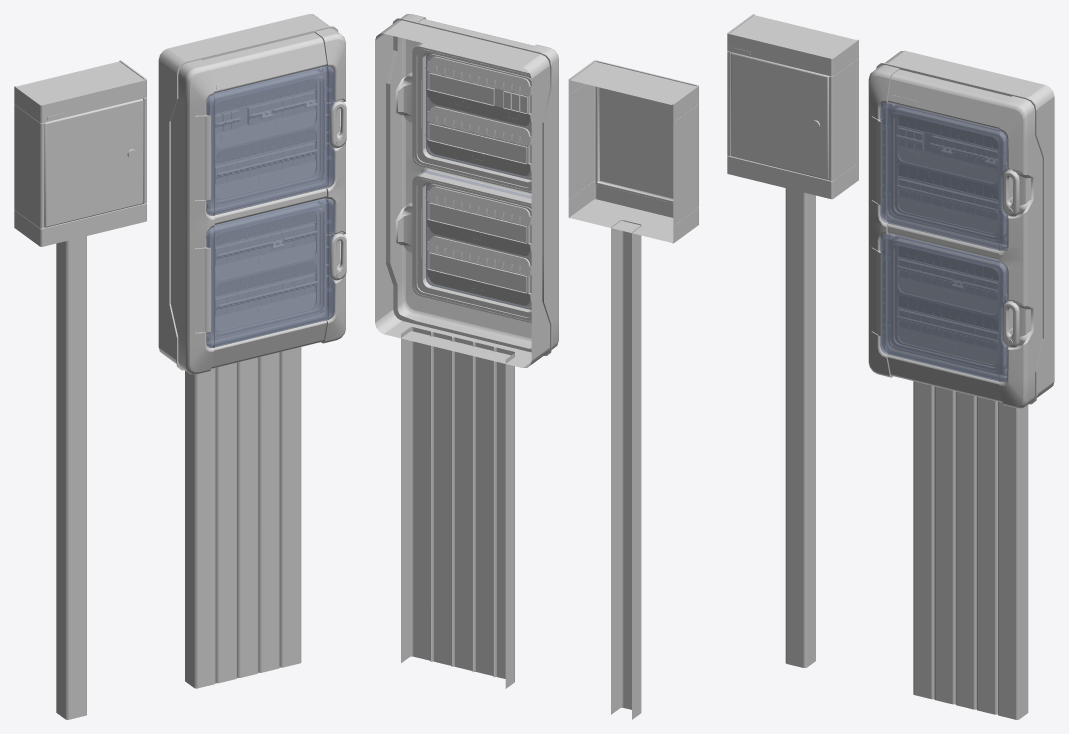
File: Electrical_panel_0.fbx
3 renders of one model, left to right at view 1: azimuth 30°, elevation 25°; view 2: azimuth 150°, elevation 25°; view 3: azimuth 330°, elevation 25°, orthographic.
Visible parts, largest first — view 1: Electrical_panel_0, Electrical_panel_0_CabChannel, Electrical_panel_0_A, Electrical_panel_0_Cap_a.001, Electrical_panel_0_Cap_a, Electrical_panel_0_labels; view 2: Electrical_panel_0, Electrical_panel_0_CabChannel, Electrical_panel_0_A, Electrical_panel_0_Cap_a.001; view 3: Electrical_panel_0, Electrical_panel_0_CabChannel, Electrical_panel_0_A, Electrical_panel_0_Cap_a.001, Electrical_panel_0_Cap_a, Electrical_panel_0_labels.
Boxes of the visible parts, x1,y1,x2,y2 form: Electrical_panel_0: [158, 14, 345, 374]; Electrical_panel_0_CabChannel: [56, 236, 301, 719]; Electrical_panel_0_A: [14, 60, 146, 246]; Electrical_panel_0_Cap_a.001: [195, 198, 346, 347]; Electrical_panel_0_Cap_a: [195, 66, 346, 215]; Electrical_panel_0_labels: [215, 78, 310, 314]; Electrical_panel_0: [375, 14, 558, 367]; Electrical_panel_0_CabChannel: [401, 220, 641, 719]; Electrical_panel_0_A: [568, 60, 698, 243]; Electrical_panel_0_Cap_a.001: [421, 170, 531, 309]; Electrical_panel_0: [868, 50, 1054, 408]; Electrical_panel_0_CabChannel: [785, 188, 1028, 719]; Electrical_panel_0_A: [727, 14, 858, 199]; Electrical_panel_0_Cap_a.001: [871, 233, 1019, 382]; Electrical_panel_0_Cap_a: [871, 102, 1019, 250]; Electrical_panel_0_labels: [891, 95, 994, 348].
Size of the model in its own units: 0.8579 by 1.71 by 0.165.
